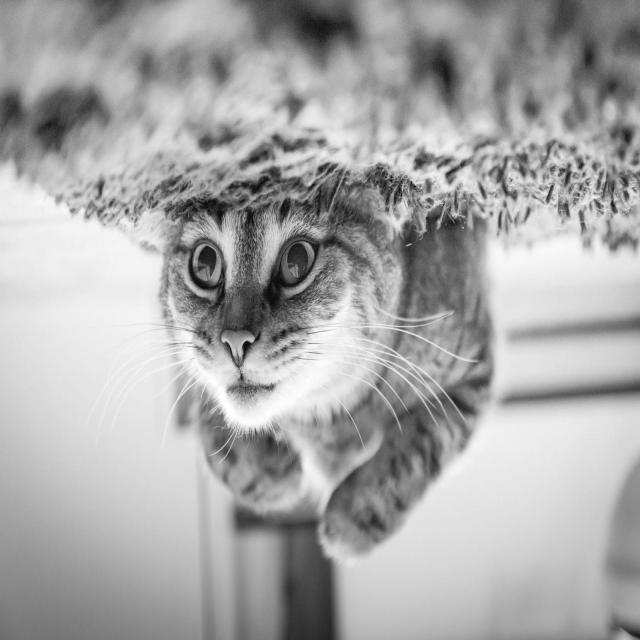Cat: (110, 112, 514, 553)
